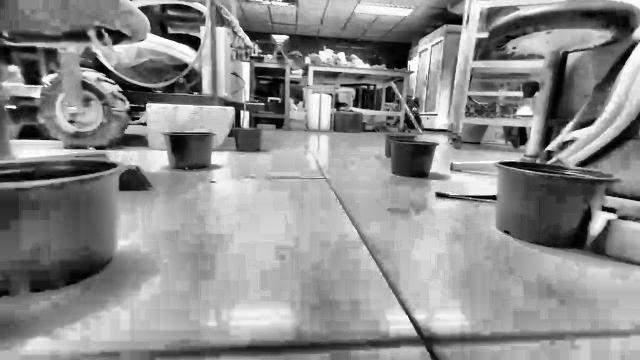pot: (0, 155, 128, 296), (488, 161, 615, 247), (388, 139, 438, 178), (163, 132, 214, 169), (234, 128, 261, 151)
